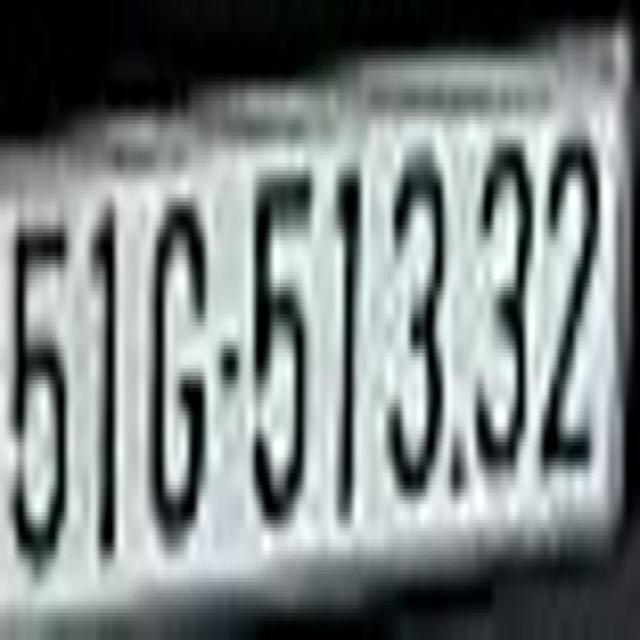1: (90, 186, 118, 566), (336, 148, 365, 500)
2: (538, 132, 603, 477)
3: (382, 140, 443, 484), (475, 124, 529, 462)
5: (250, 159, 316, 493), (12, 210, 72, 554)
G: (156, 178, 207, 536)
